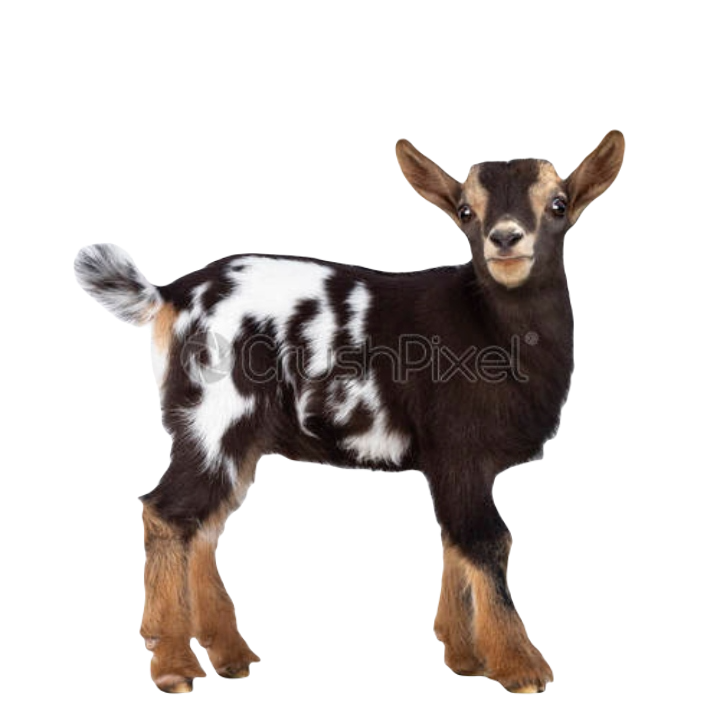Goat: (75, 129, 624, 692)
